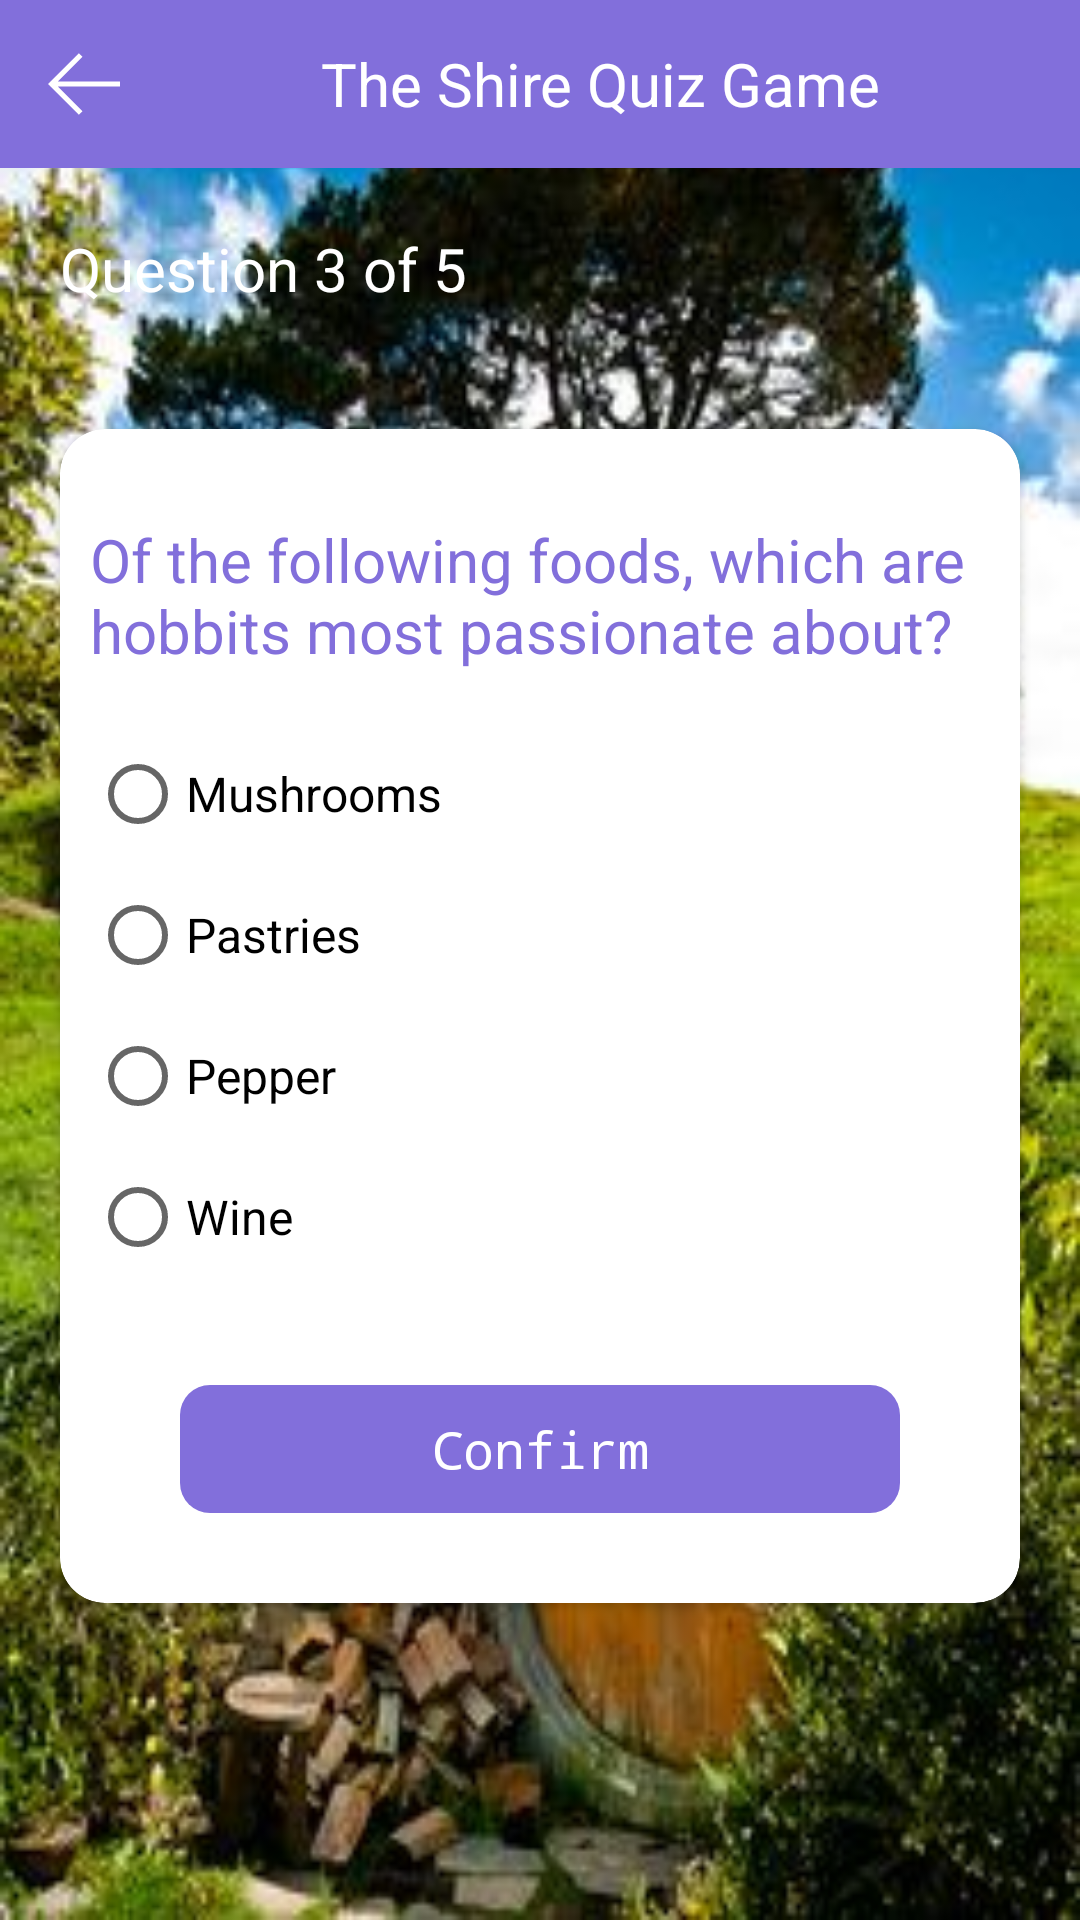

Named icons in this screenshot (1080px×1920px) and their centers, point (x, y):
left arrow: point (84, 84)
